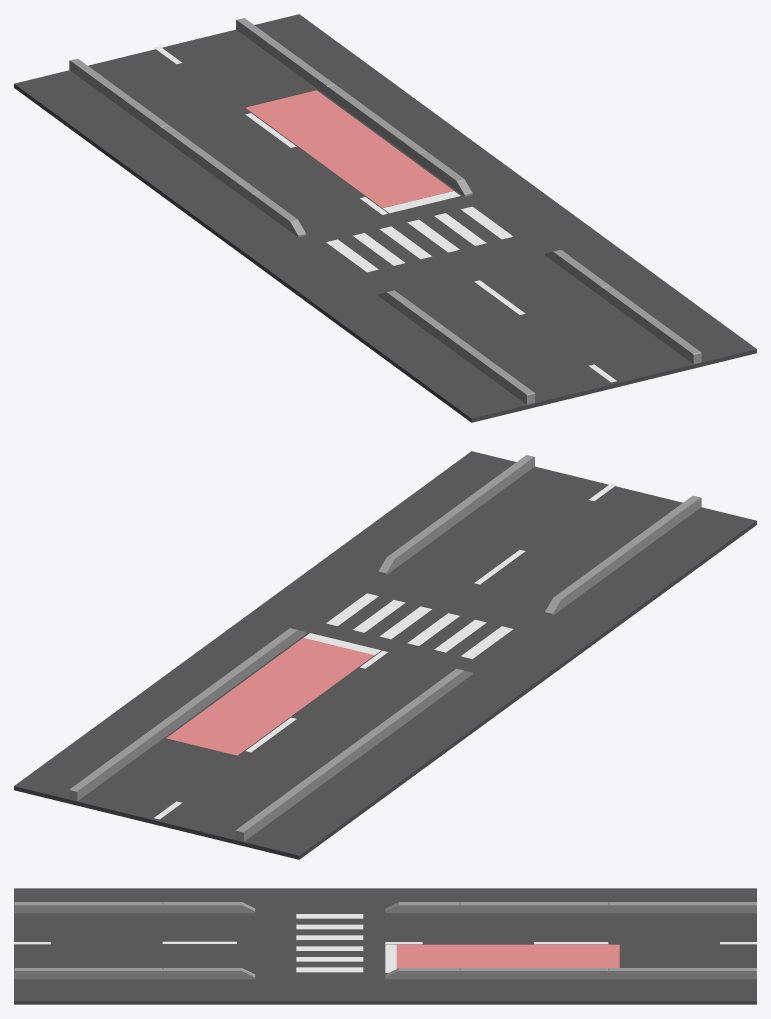
The model's file is road_stop_area2.fbx.
3 renders of one model, top to bottom at view 1: azimuth 30°, elevation 25°; view 2: azimuth 150°, elevation 25°; view 3: azimuth 270°, elevation 25°, orthographic. The views are drawn at different scales.
Visible parts, largest first — view 1: StopAreaRoad.002, sideroad2, sideroad1, StopAreaRoad.008, edge_stone5, edge_stone10, edge_stone2, edge_stone7, edge_stone6, edge_stone1, edge_stone_end1.002, edge_stone_end1.003 (+2 smaller); view 2: StopAreaRoad.002, sideroad2, sideroad1, StopAreaRoad.008, edge_stone2, edge_stone7, edge_stone1, edge_stone6, edge_stone10, edge_stone5, edge_stone_end1.003, edge_stone_end1.002 (+2 smaller); view 3: StopAreaRoad.002, sideroad1, sideroad2, StopAreaRoad.008, edge_stone1, edge_stone6, edge_stone2, edge_stone5, edge_stone7, edge_stone10, edge_stone_end1.002, edge_stone_end1.003 (+11 smaller).
Part boxes in pixels (left/top/right/bottom): StopAreaRoad.002: left=88, top=29, right=693, bottom=407; sideroad2: left=14, top=70, right=534, bottom=422; sideroad1: left=238, top=14, right=756, bottom=368; StopAreaRoad.008: left=246, top=90, right=453, bottom=207; edge_stone5: left=602, top=286, right=701, bottom=364; edge_stone10: left=435, top=326, right=534, bottom=404; edge_stone2: left=236, top=18, right=334, bottom=95; edge_stone7: left=69, top=58, right=168, bottom=136; edge_stone6: left=161, top=125, right=259, bottom=203; edge_stone1: left=327, top=85, right=426, bottom=162; edge_stone_end1.002: left=378, top=290, right=443, bottom=337; edge_stone_end1.003: left=545, top=250, right=609, bottom=296; StopAreaRoad.002: left=77, top=466, right=682, bottom=844; sideroad2: left=236, top=507, right=756, bottom=859; sideroad1: left=14, top=451, right=532, bottom=805; StopAreaRoad.008: left=166, top=638, right=374, bottom=755; edge_stone2: left=69, top=723, right=168, bottom=801; edge_stone7: left=236, top=763, right=335, bottom=841; edge_stone1: left=161, top=656, right=260, bottom=733; edge_stone6: left=327, top=696, right=426, bottom=774; edge_stone10: left=602, top=495, right=701, bottom=573; edge_stone5: left=436, top=455, right=534, bottom=532; edge_stone_end1.003: left=378, top=522, right=443, bottom=574; edge_stone_end1.002: left=545, top=562, right=609, bottom=615; StopAreaRoad.002: left=14, top=913, right=756, bottom=976; sideroad1: left=14, top=976, right=756, bottom=1004; sideroad2: left=14, top=888, right=756, bottom=913; StopAreaRoad.008: left=396, top=944, right=619, bottom=968; edge_stone1: left=459, top=968, right=608, bottom=979; edge_stone6: left=459, top=902, right=608, bottom=913; edge_stone2: left=608, top=968, right=756, bottom=979; edge_stone5: left=14, top=968, right=162, bottom=979; edge_stone7: left=608, top=902, right=756, bottom=913; edge_stone10: left=14, top=902, right=162, bottom=913; edge_stone_end1.002: left=162, top=902, right=255, bottom=913; edge_stone_end1.003: left=162, top=968, right=255, bottom=979.
Size of the model in its own units: 7200 by 345 by 20000.
